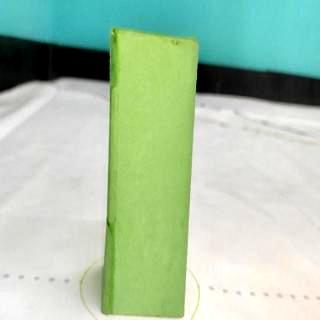greenbox: (106, 29, 202, 320)
